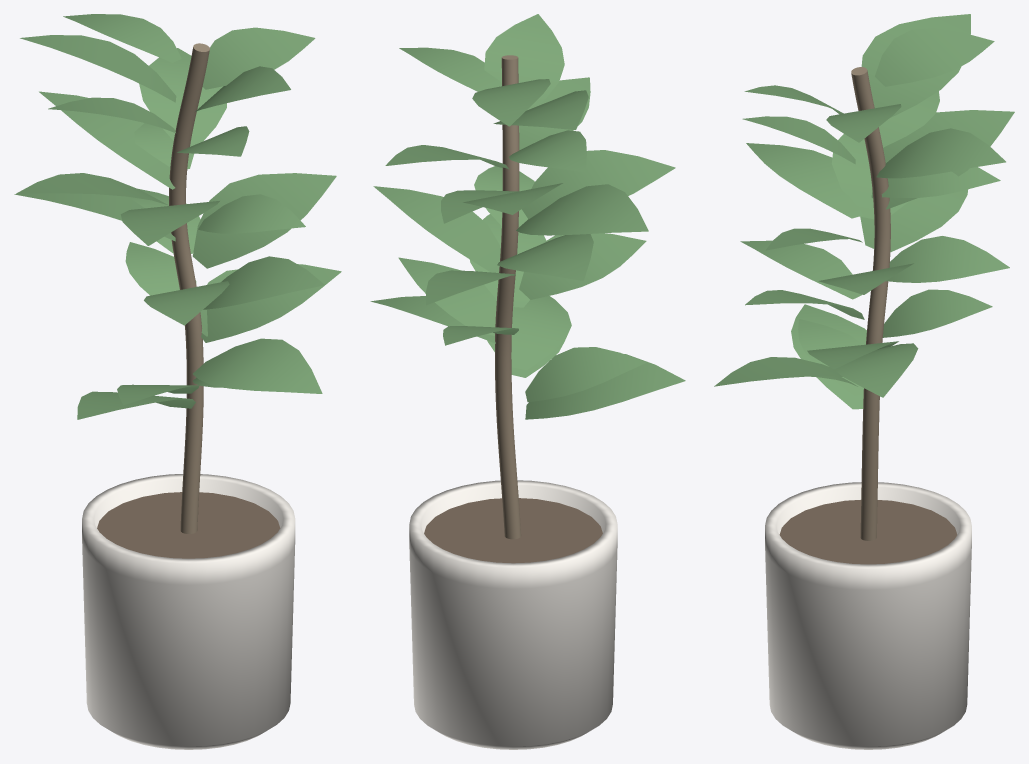
File: mo_planter_fig.glb
3 renders of one model, left to right at view 1: azimuth 30°, elevation 25°; view 2: azimuth 150°, elevation 25°; view 3: azimuth 270°, elevation 25°, orthographic. The views are drawn at different scales.
Visible parts, largest first — view 1: leaves, pot, soil, trunk; view 2: leaves, pot, soil, trunk; view 3: leaves, pot, soil, trunk.
Boxes of the visible parts, <box> form: leaves: <box>14,14,341,419</box>; pot: <box>82,474,295,749</box>; soil: <box>97,492,280,558</box>; trunk: <box>169,43,209,533</box>; leaves: <box>370,14,685,419</box>; pot: <box>409,480,617,749</box>; soil: <box>424,498,602,563</box>; trunk: <box>495,55,521,539</box>; leaves: <box>714,14,1014,409</box>; pot: <box>765,482,971,749</box>; soil: <box>779,500,957,564</box>; trunk: <box>851,67,890,540</box>.
Size of the model in its own units: 0.7341 by 1.57 by 0.6548.
